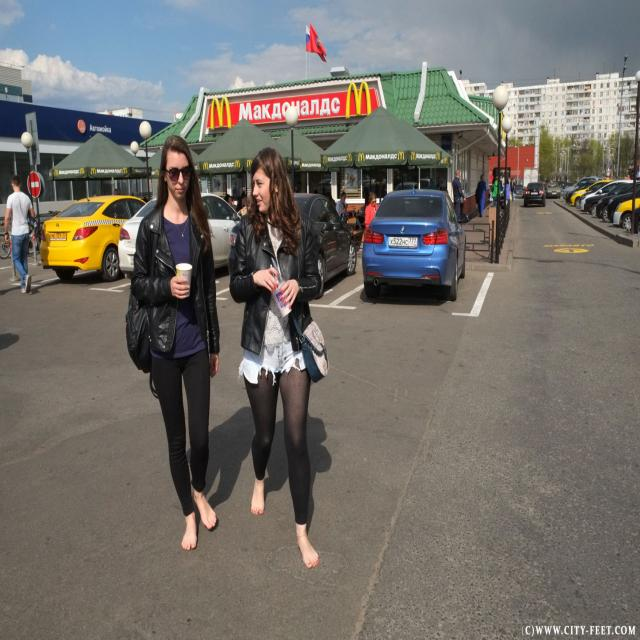Barefoots: (192, 488, 216, 530), (296, 530, 319, 568), (181, 515, 197, 550), (251, 476, 265, 514)
